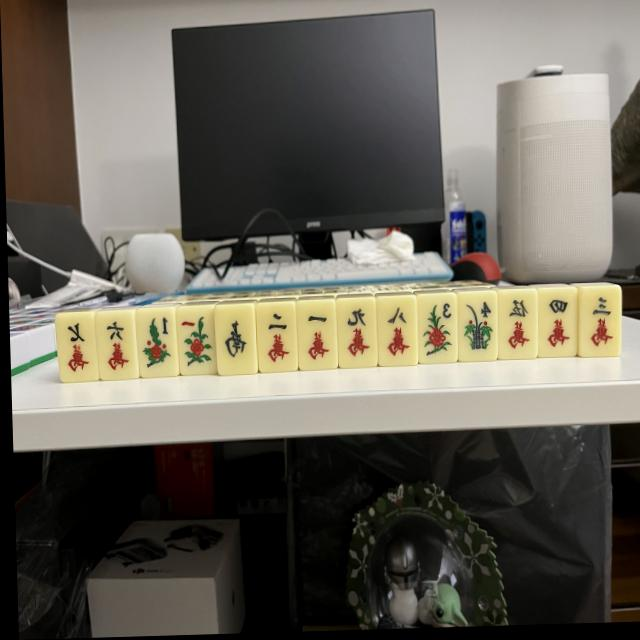1C: (297, 300, 337, 369)
1F: (136, 309, 179, 378)
1S: (174, 306, 216, 374)
2C: (256, 304, 299, 373)
3C: (577, 286, 623, 357)
3F: (417, 296, 459, 365)
4C: (538, 288, 579, 358)
4F: (455, 293, 497, 363)
5C: (496, 289, 538, 358)
6C: (95, 312, 140, 381)
7C: (56, 312, 100, 382)
8C: (376, 296, 417, 365)
9C: (337, 301, 378, 369)
SW: (214, 305, 256, 374)
